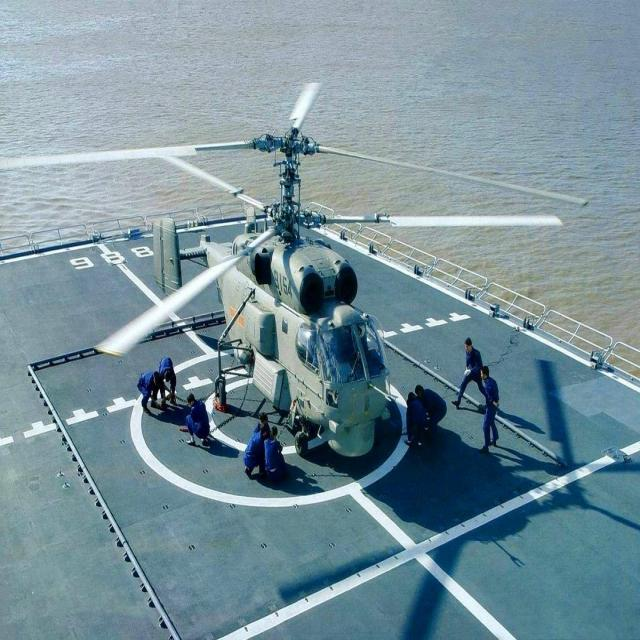MIL_HELO: (9, 80, 588, 462)
